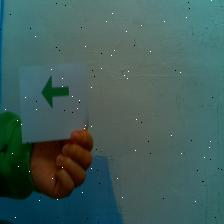left: (42, 74, 70, 110)
